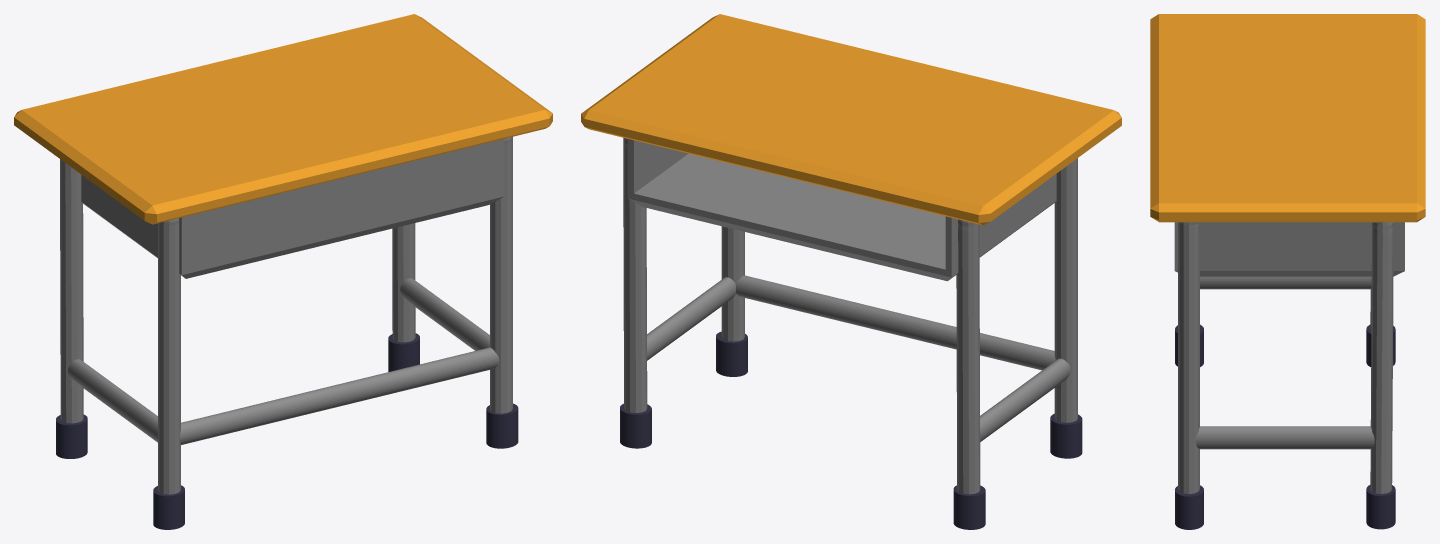
Rendered from schoolTable.fbx.
3 renders of one model, left to right at view 1: azimuth 30°, elevation 25°; view 2: azimuth 150°, elevation 25°; view 3: azimuth 270°, elevation 25°, orthographic.
Parts seen in each view (by area): view 1: Wood, Cylinder.001, Cylinder.002, Cylinder.005, Cylinder.004, Cylinder.003; view 2: Wood, Cylinder.001, Cylinder.004, Cylinder.005, Cylinder.003, Cylinder.002; view 3: Wood, Cylinder.001, Cylinder.003, Cylinder.002, Cylinder.005.
Part boxes in pixels (box(x1,y1,x2,y2)): Wood: box(14, 14, 552, 224); Cylinder.001: box(60, 137, 512, 494); Cylinder.002: box(486, 403, 518, 448); Cylinder.005: box(56, 414, 87, 458); Cylinder.004: box(153, 485, 184, 529); Cylinder.003: box(388, 333, 419, 371); Wood: box(581, 14, 1121, 225); Cylinder.001: box(623, 137, 1077, 494); Cylinder.004: box(1050, 413, 1082, 458); Cylinder.005: box(953, 485, 985, 529); Cylinder.003: box(620, 403, 651, 448); Cylinder.002: box(716, 331, 747, 376); Wood: box(1150, 14, 1425, 222); Cylinder.001: box(1174, 222, 1404, 493); Cylinder.003: box(1366, 485, 1395, 529); Cylinder.002: box(1175, 485, 1203, 529); Cylinder.005: box(1366, 324, 1395, 366).
Size of the model in its own units: 2438 by 1925 by 1444.
